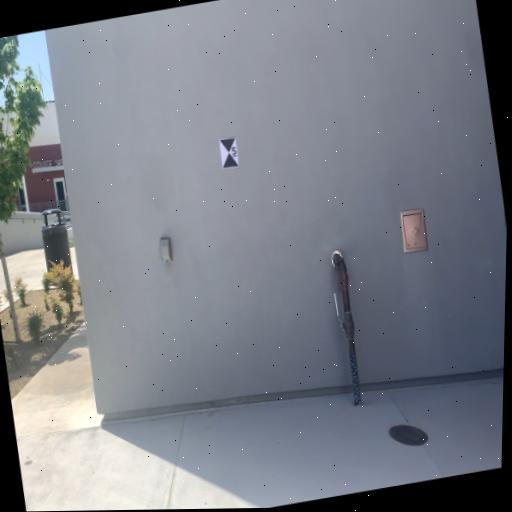target5: (218, 135, 241, 170)
